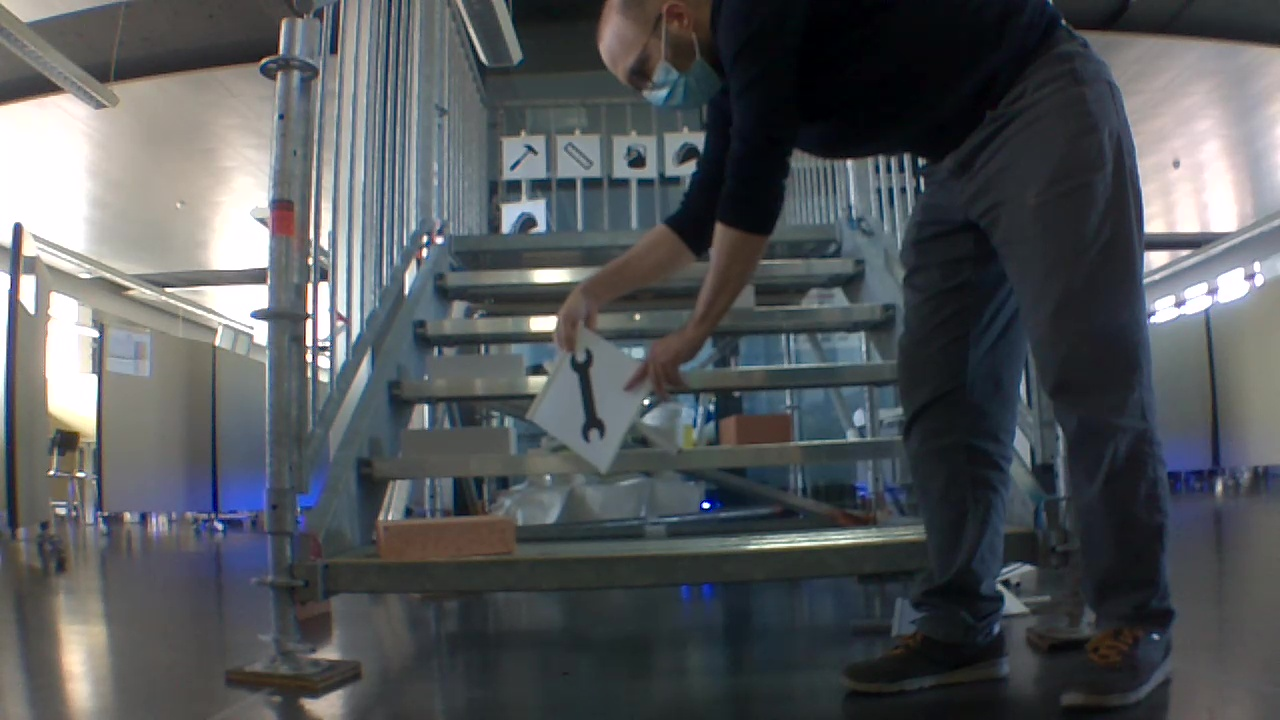brick: (375, 515, 512, 562), (399, 426, 512, 461), (425, 354, 525, 382), (720, 414, 791, 443)
bucket: (620, 141, 649, 170)
hammer: (505, 141, 541, 174)
ruler: (559, 138, 596, 174)
taco: (667, 139, 701, 167), (502, 209, 543, 232)
wrench: (565, 345, 613, 449)
